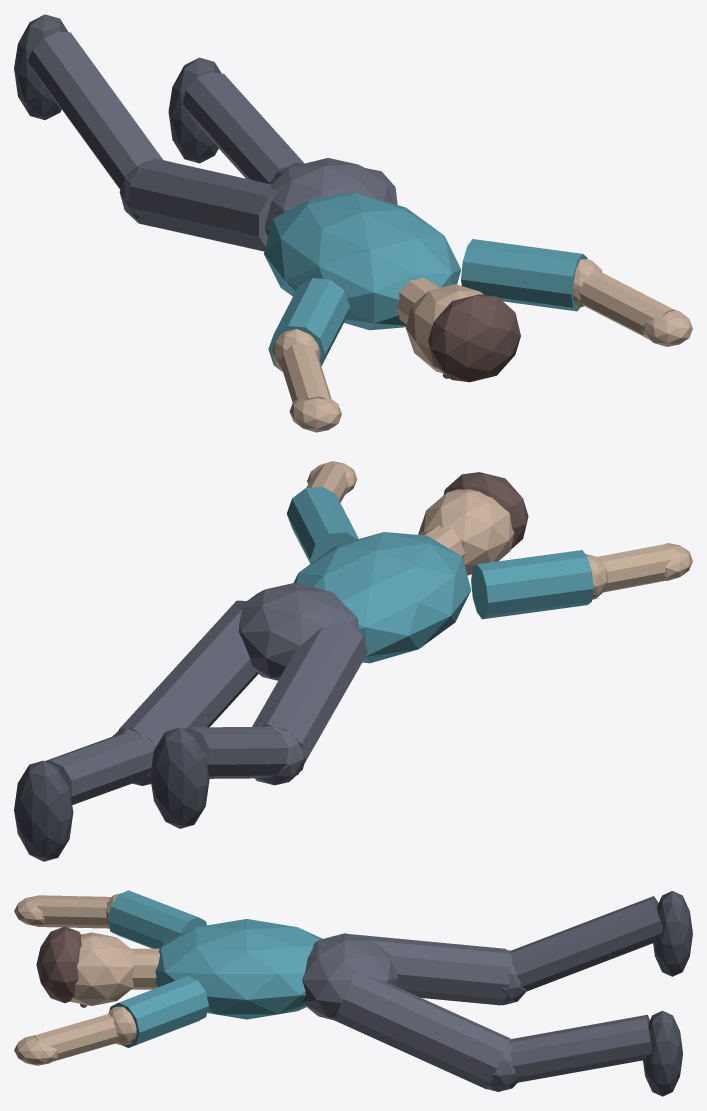
The picture shows the model from 3 angles, top to bottom: view 1: azimuth 30°, elevation 25°; view 2: azimuth 150°, elevation 25°; view 3: azimuth 270°, elevation 25°; orthographic projection. The views are drawn at different scales.
Parts seen in each view (by area): view 1: world; view 2: world; view 3: world.
Boxes of the visible parts, x1=… form: world: x1=14, y1=14, x2=692, y2=432; world: x1=14, y1=461, x2=692, y2=861; world: x1=14, y1=890, x2=692, y2=1096.
Size of the model in its own units: 1.17 by 0.5125 by 2.14.
